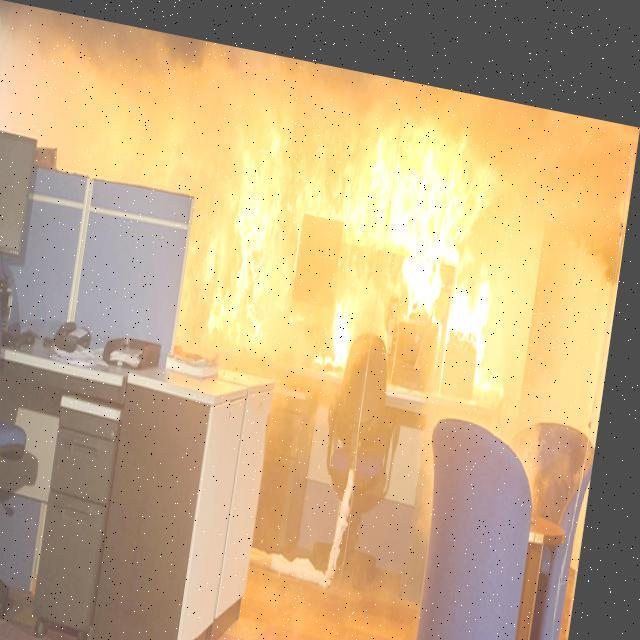Fire: (172, 40, 564, 452)
